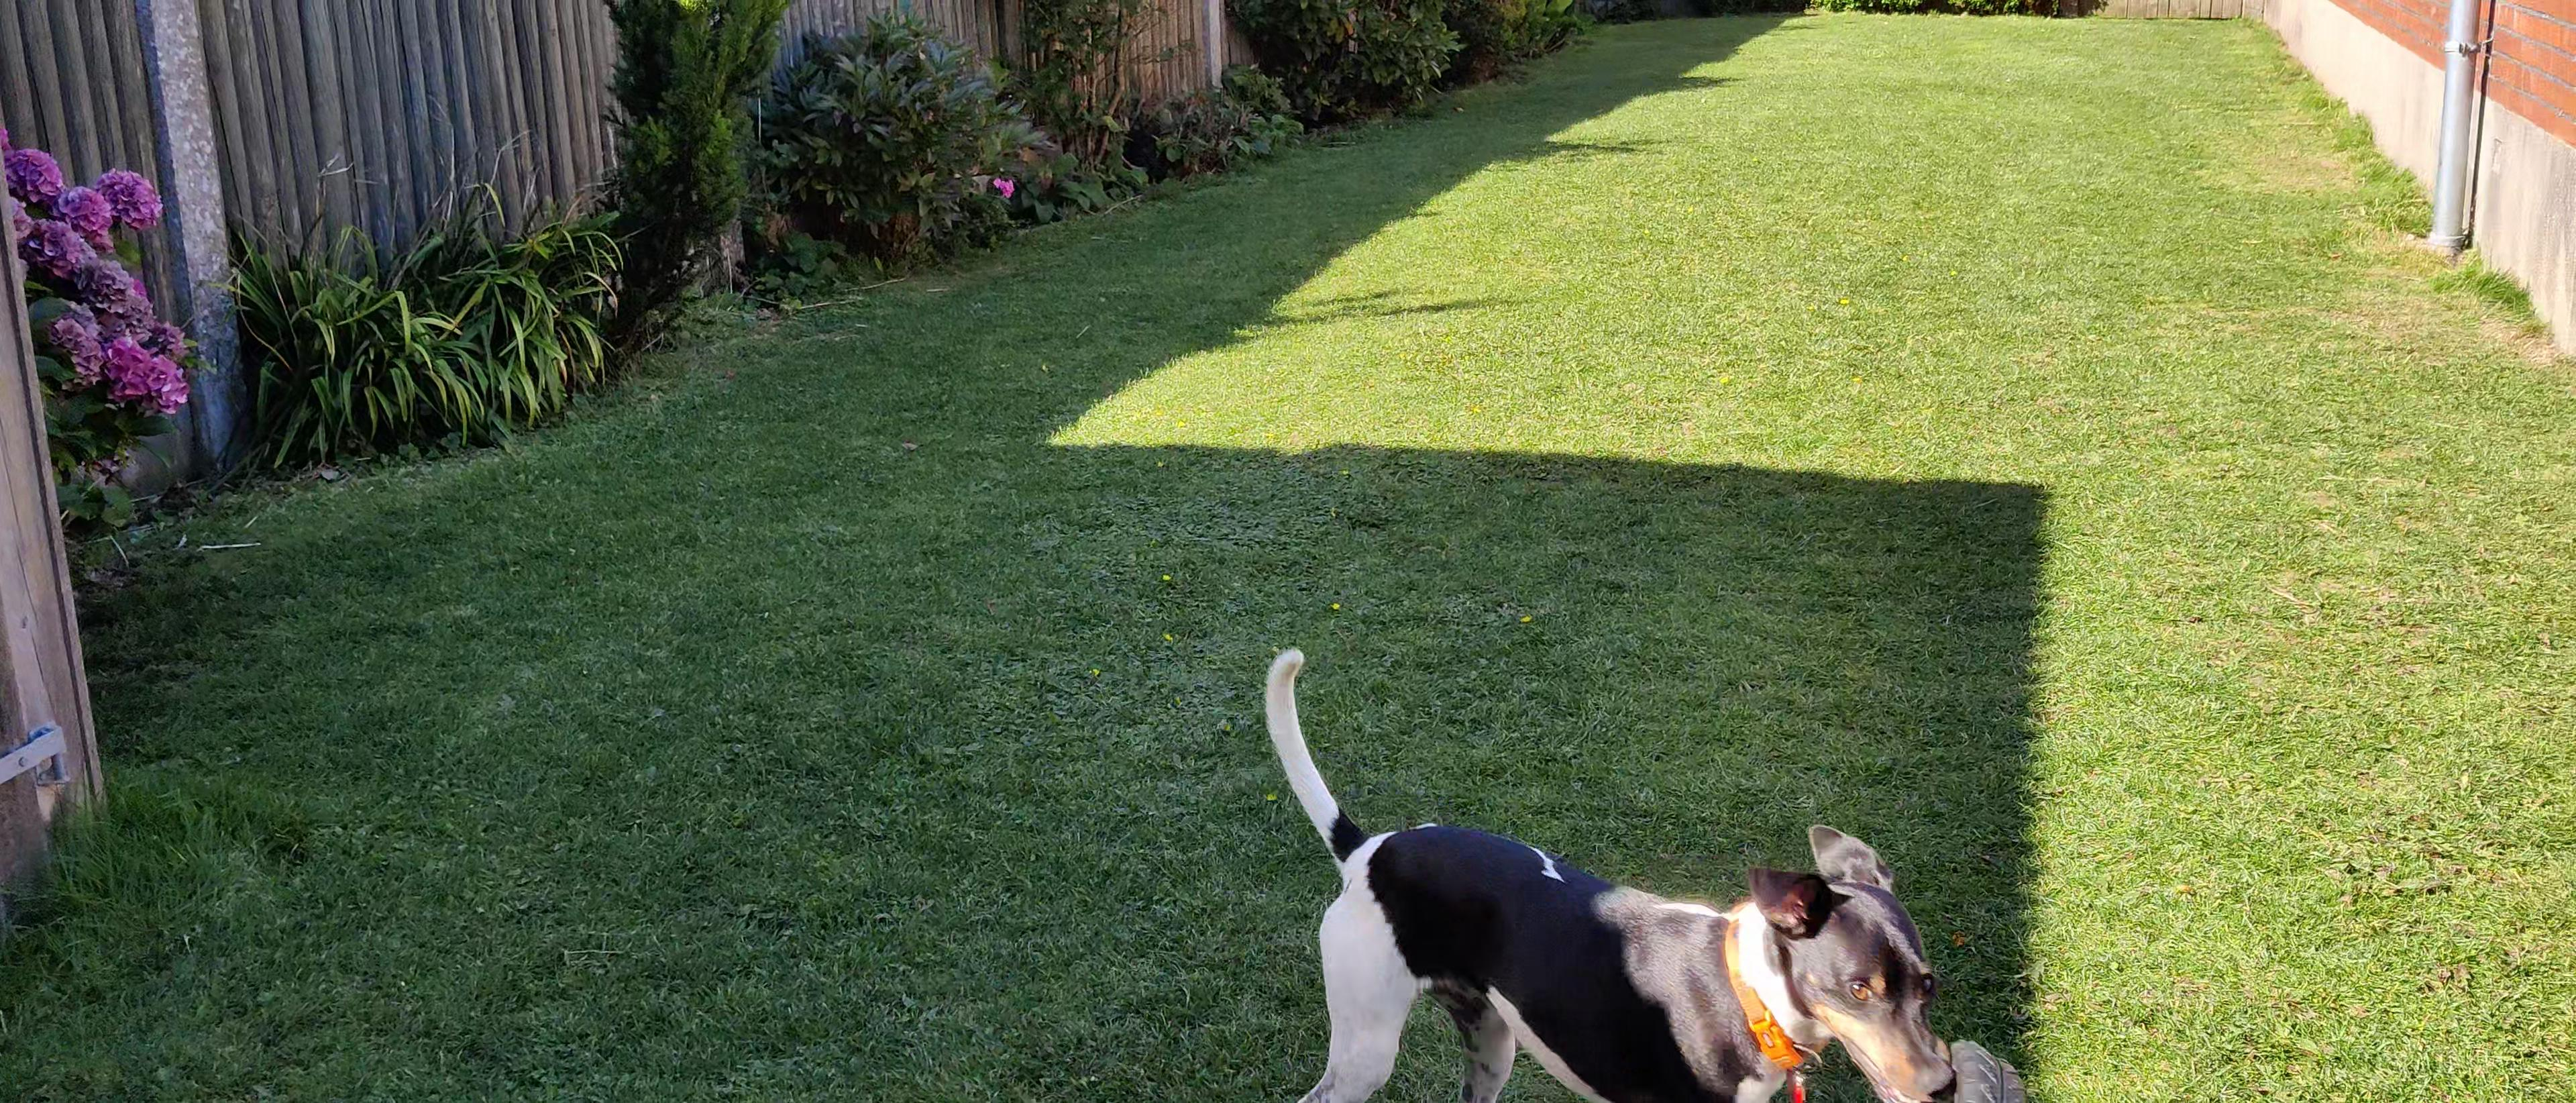Dog: (1239, 628, 1963, 1103)
